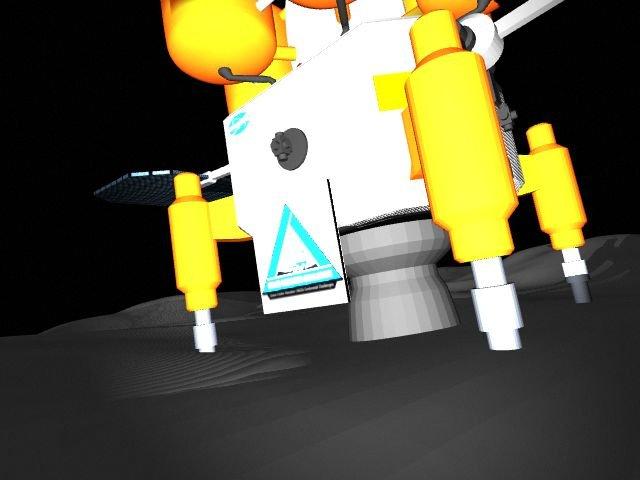basemarker: (263, 203, 344, 301)
